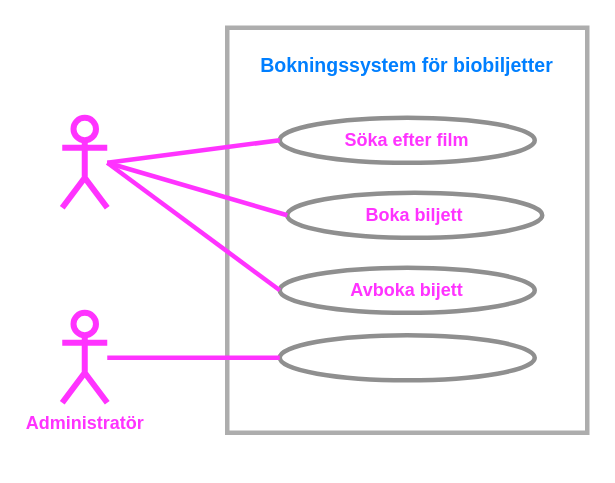
Some shapes in this 615 by 483 pixel diagram are drawn without their labels. Each missing label, with the centre of its shape:
"Kund" belongs at point 84,162.
"Skapa rapport" belongs at point 406,357.
